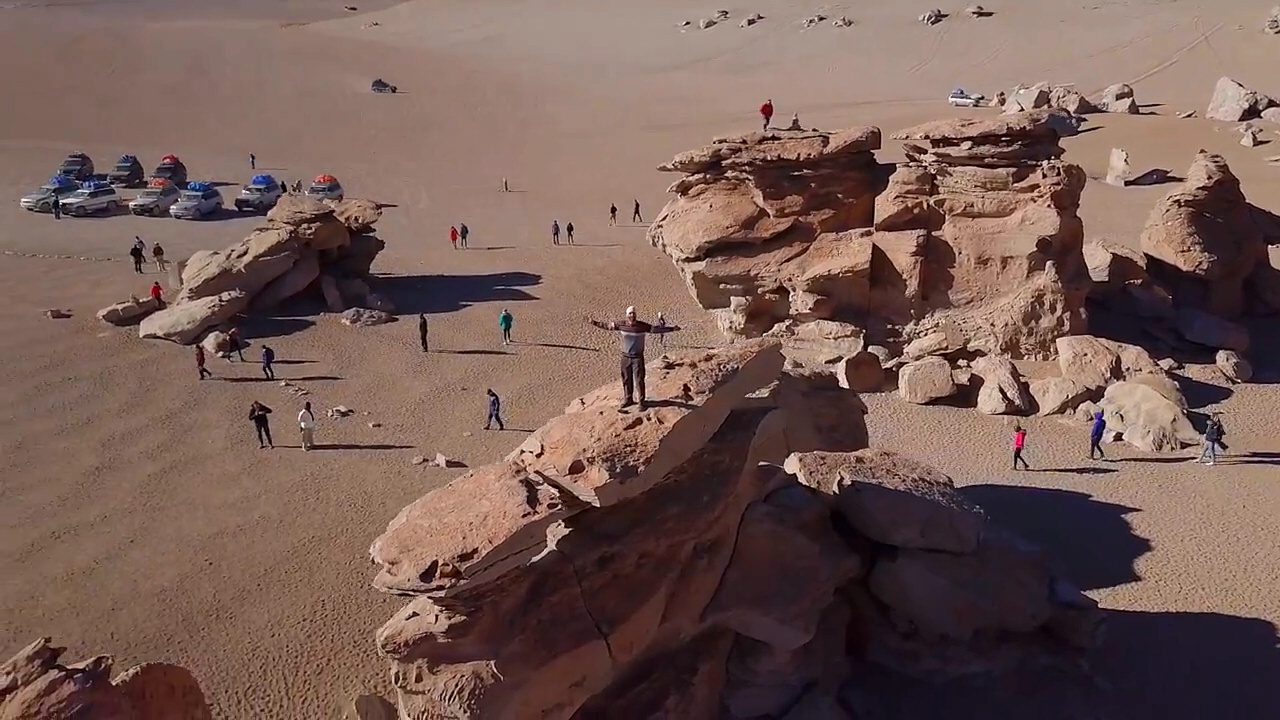araba: (58, 184, 121, 214), (233, 175, 281, 213), (20, 180, 76, 212), (170, 185, 224, 217), (128, 186, 183, 214), (105, 158, 144, 186), (306, 174, 344, 202), (147, 160, 189, 185), (56, 152, 94, 179), (948, 88, 980, 107)
insan: (583, 305, 682, 412), (1198, 409, 1229, 466), (246, 398, 277, 451), (481, 387, 507, 432), (1086, 410, 1106, 461), (300, 400, 317, 453), (1011, 424, 1029, 471), (192, 343, 212, 380), (499, 307, 516, 349), (259, 345, 277, 379), (152, 239, 168, 273), (418, 312, 431, 353), (130, 243, 146, 274), (758, 98, 773, 131), (151, 280, 164, 306), (457, 223, 470, 248), (631, 198, 643, 223), (52, 194, 63, 220), (607, 202, 618, 227), (448, 225, 459, 249), (551, 220, 560, 247), (566, 220, 575, 245), (247, 151, 258, 171)
